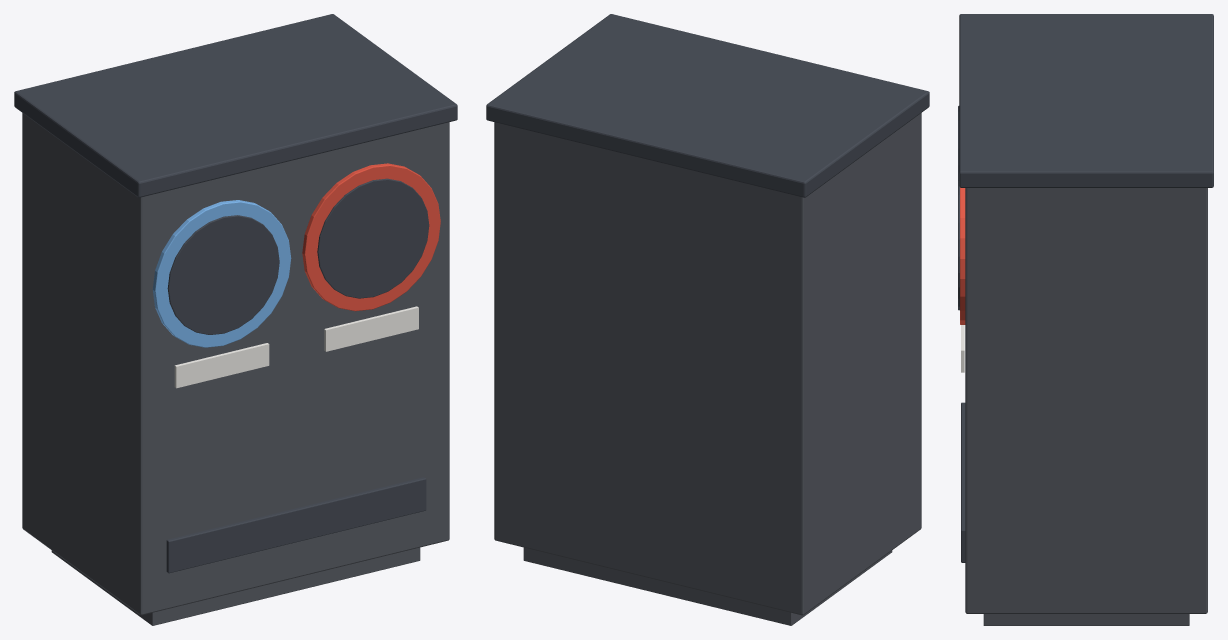
File: recycling_station.glb
3 renders of one model, left to right at view 1: azimuth 30°, elevation 25°; view 2: azimuth 150°, elevation 25°; view 3: azimuth 270°, elevation 25°, orthographic.
Parts seen in each view (by area): view 1: RecyclingStation; view 2: RecyclingStation; view 3: RecyclingStation.
Boxes of the visible parts, bbox=[...] form: RecyclingStation: bbox=[14, 14, 457, 625]; RecyclingStation: bbox=[486, 14, 929, 625]; RecyclingStation: bbox=[958, 14, 1213, 625].
Size of the model in its own units: 0.744 by 1.02 by 0.5064.
